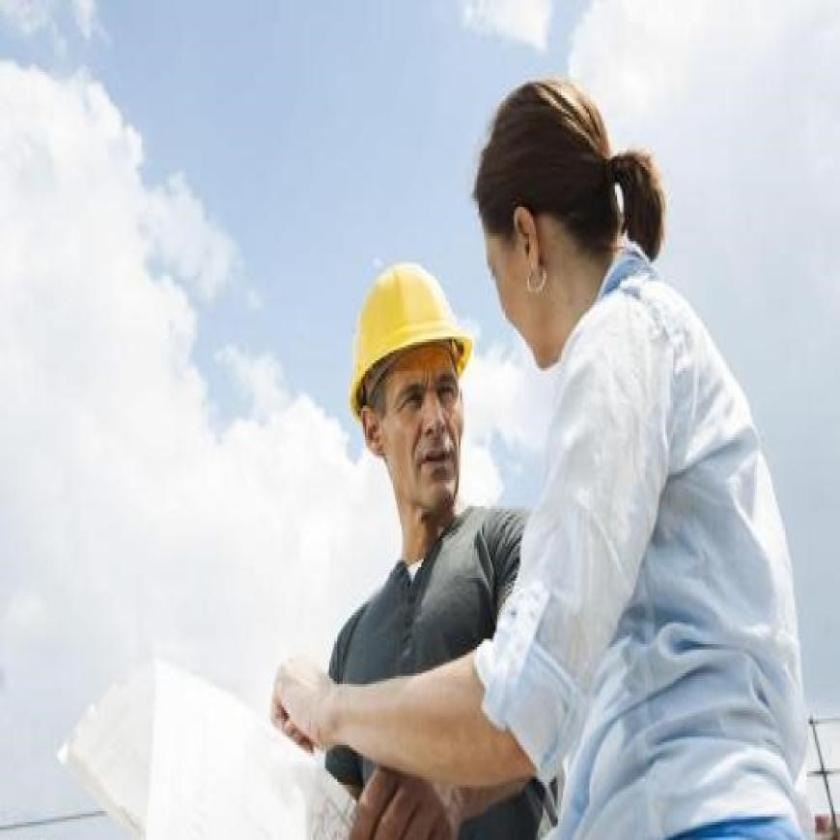Con_casco: (345, 258, 475, 530)
Sin_casco: (472, 68, 631, 377)
